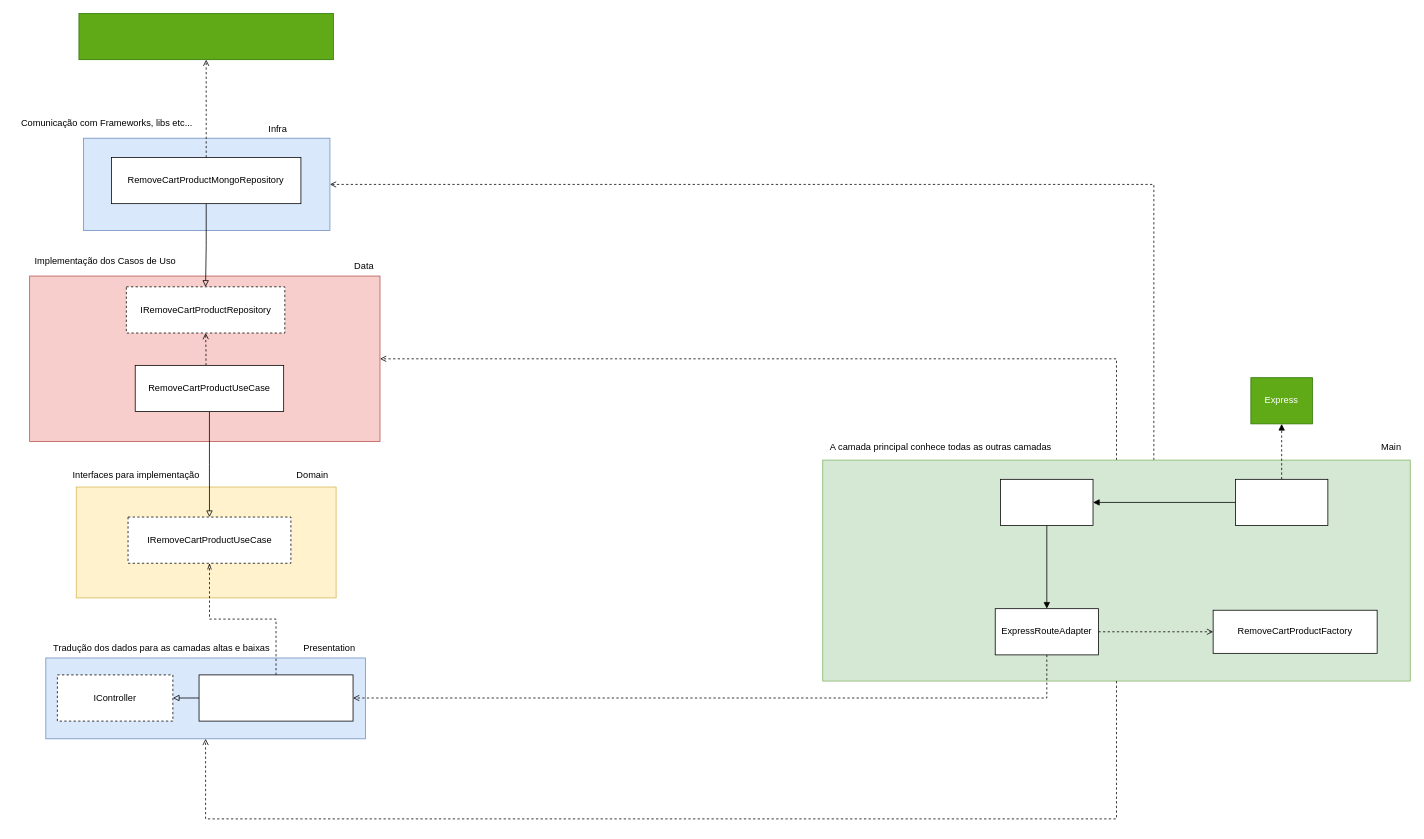
Image size: 1424x839. Some labels were removed from this diagram. The centre of each missing label's shape, as x and y in pixels:
"/api/cart" goes at pixel 1046 502.
"App" goes at pixel 1281 502.
"MongoDB" goes at pixel 205 36.
"RemoveCartProductController" goes at pixel 275 697.
